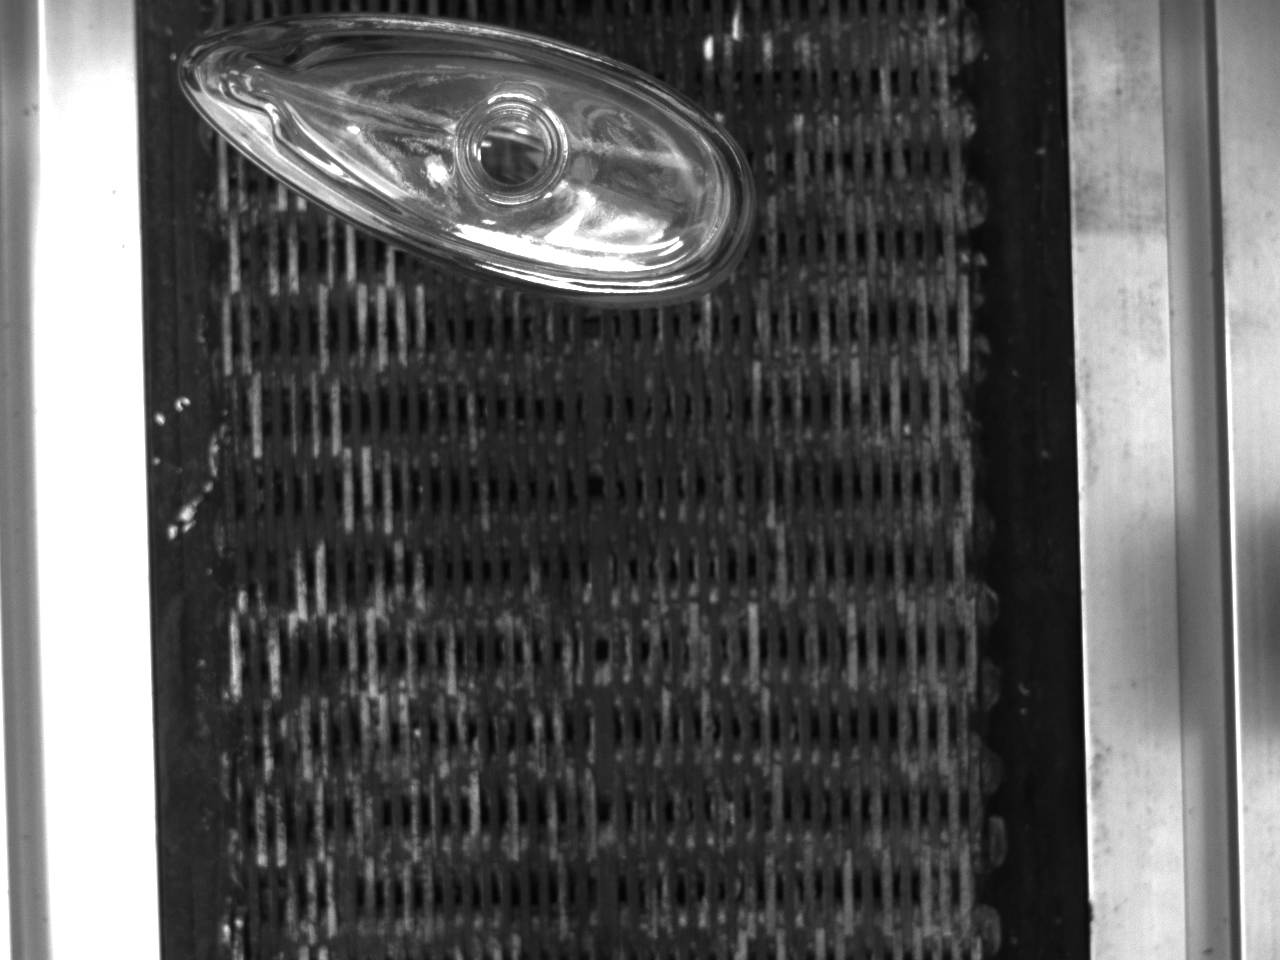bottleneck: (458, 95, 570, 206)
